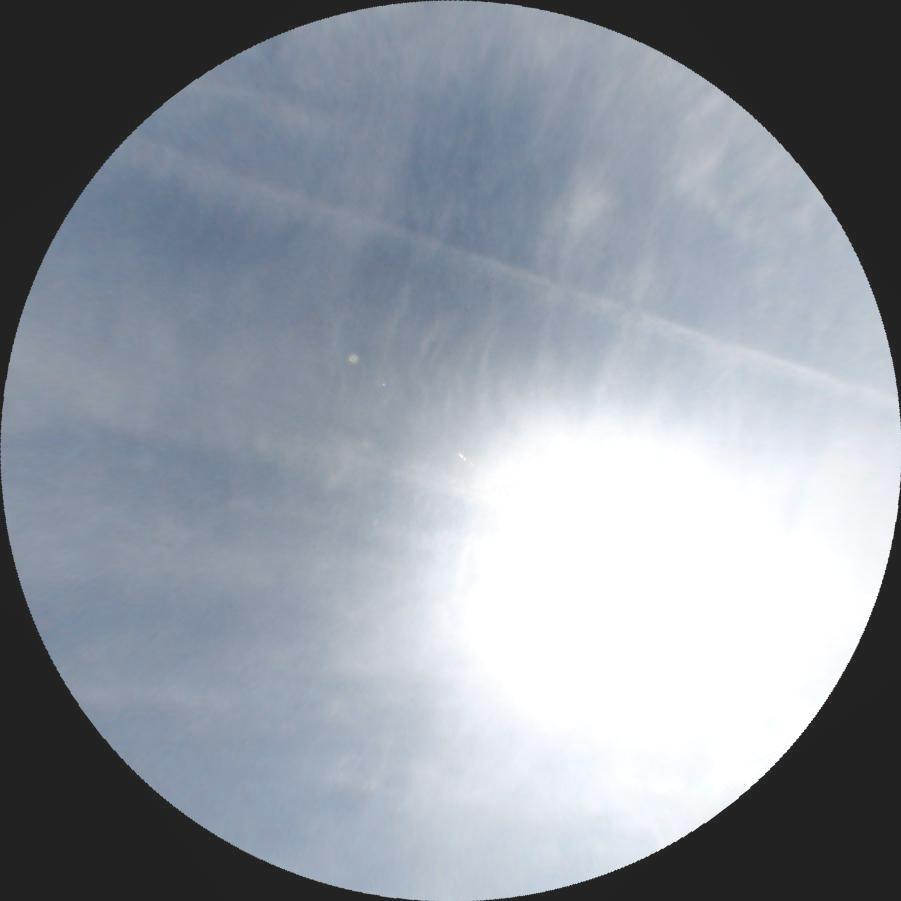contrail veryold: (109, 128, 901, 421)
sun: (508, 498, 688, 663)
